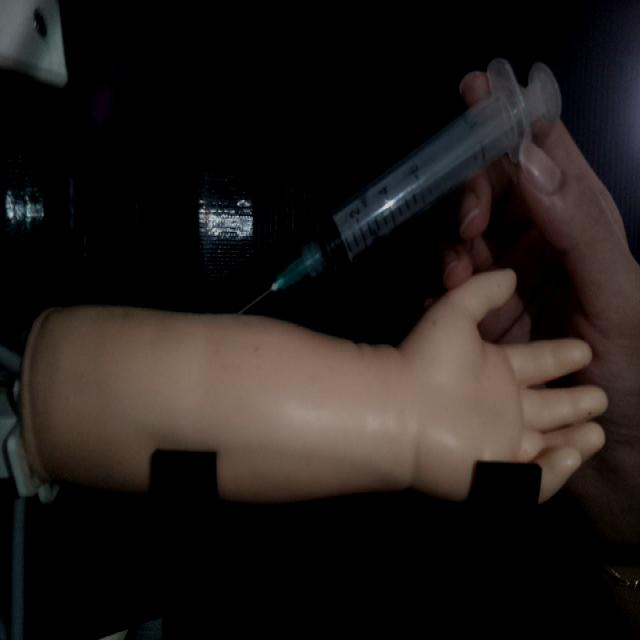Above 30 degrees: (230, 53, 563, 316)
